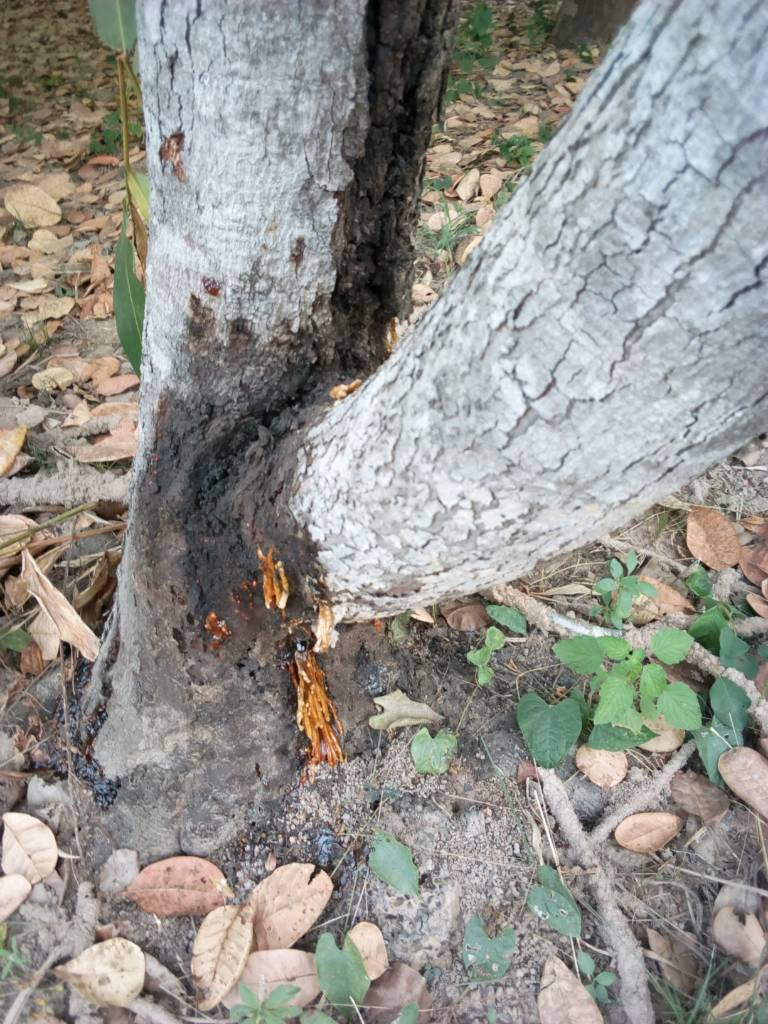Gommose: (157, 360, 304, 617)
